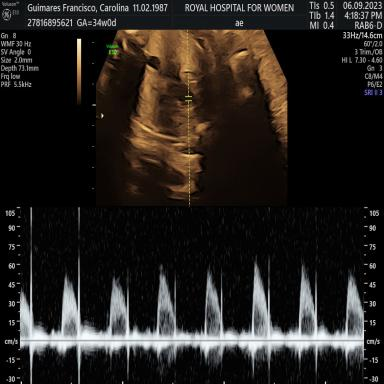Ultrasound-Waves: (26, 210, 364, 384)
